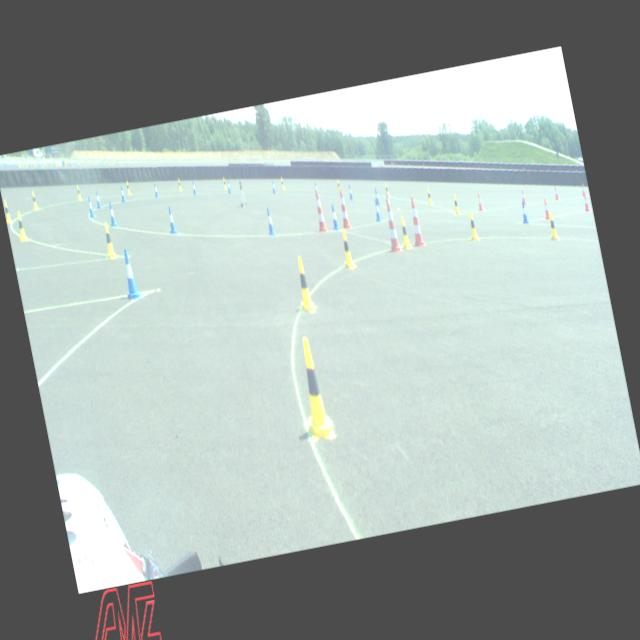blue_cone: (118, 248, 142, 300), (165, 206, 178, 234), (264, 207, 276, 236), (107, 201, 118, 227), (330, 205, 340, 231), (519, 200, 529, 223), (86, 195, 96, 218), (372, 199, 382, 222), (386, 192, 393, 215), (94, 189, 102, 209), (118, 185, 126, 202), (374, 188, 380, 206), (154, 182, 160, 198), (191, 181, 197, 195), (226, 180, 232, 194), (271, 180, 277, 194), (348, 184, 353, 200), (314, 183, 320, 196)
large_orange_cone: (380, 198, 403, 254), (404, 195, 426, 248), (310, 188, 328, 234), (336, 188, 352, 229)
orange_cone: (542, 198, 550, 220), (476, 192, 484, 212), (582, 192, 590, 212), (520, 188, 526, 206), (554, 186, 560, 200), (580, 184, 586, 196)
yellow_cone: (292, 335, 336, 442), (292, 255, 316, 315), (338, 228, 357, 269), (102, 222, 116, 258), (398, 216, 412, 249), (466, 210, 480, 241), (15, 210, 28, 242), (546, 212, 559, 240), (2, 200, 12, 223), (30, 190, 40, 210), (452, 194, 461, 215), (426, 188, 433, 205), (76, 184, 82, 200), (177, 177, 183, 192), (280, 176, 286, 191), (125, 180, 131, 194), (222, 177, 228, 190), (386, 182, 390, 198), (336, 180, 341, 192)
